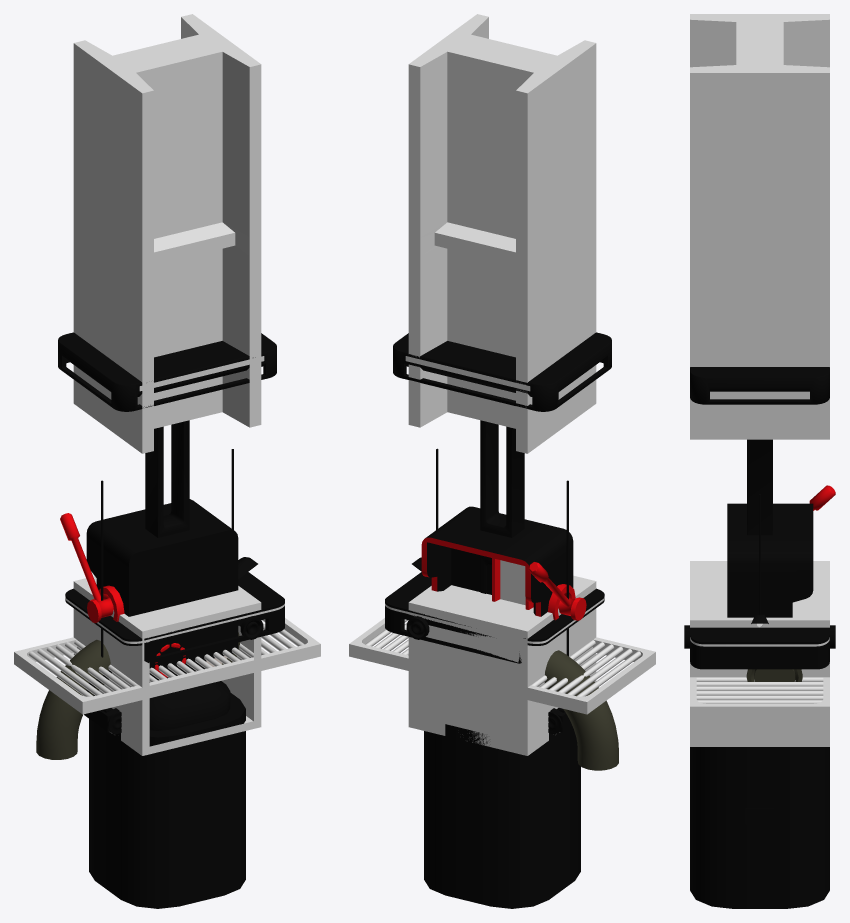
The model's file is Lift-M00A.fbx.
The picture shows the model from 3 angles, left to right: view 1: azimuth 30°, elevation 25°; view 2: azimuth 150°, elevation 25°; view 3: azimuth 270°, elevation 25°; orthographic projection.
Visible parts, largest first — view 1: Cube.001, Liftbase-M00B, ElectricBox-M00A, Lift-M00A, Cube, Floor-M00B, Platform-M00A, Barometer-M00A, CeilingLamp-M00C; view 2: Cube.001, Liftbase-M00B, Cube, Lift-M00A, ElectricBox-M00A, Floor-M00B, Platform-M00A, Barometer-M00A, CeilingLamp-M00C; view 3: Cube.001, Liftbase-M00B, Cube, ElectricBox-M00A, Lift-M00A, Platform-M00A, Floor-M00B, Barometer-M00A, CeilingLamp-M00C.
Boxes of the visible parts, x1=… form: Cube.001: x1=73, y1=14, x2=261, y2=453; Liftbase-M00B: x1=89, y1=660, x2=245, y2=908; ElectricBox-M00A: x1=60, y1=499, x2=238, y2=673; Lift-M00A: x1=58, y1=332, x2=276, y2=537; Cube: x1=73, y1=576, x2=261, y2=755; Floor-M00B: x1=14, y1=618, x2=320, y2=714; Platform-M00A: x1=65, y1=572, x2=284, y2=734; Barometer-M00A: x1=36, y1=632, x2=240, y2=759; CeilingLamp-M00C: x1=86, y1=449, x2=257, y2=692; Cube.001: x1=408, y1=14, x2=596, y2=453; Liftbase-M00B: x1=424, y1=724, x2=580, y2=908; Cube: x1=408, y1=575, x2=596, y2=755; Lift-M00A: x1=393, y1=332, x2=611, y2=593; ElectricBox-M00A: x1=421, y1=506, x2=586, y2=620; Floor-M00B: x1=349, y1=618, x2=655, y2=714; Platform-M00A: x1=385, y1=572, x2=604, y2=734; Barometer-M00A: x1=544, y1=650, x2=618, y2=770; CeilingLamp-M00C: x1=412, y1=448, x2=568, y2=656; Cube.001: x1=690, y1=14, x2=829, y2=439; Liftbase-M00B: x1=690, y1=747, x2=829, y2=908; Cube: x1=690, y1=561, x2=829, y2=746; ElectricBox-M00A: x1=727, y1=485, x2=835, y2=617; Lift-M00A: x1=690, y1=367, x2=829, y2=535; Platform-M00A: x1=684, y1=625, x2=835, y2=824; Floor-M00B: x1=690, y1=677, x2=829, y2=719; Barometer-M00A: x1=746, y1=669, x2=802, y2=681; CeilingLamp-M00C: x1=751, y1=494, x2=768, y2=627.
Bounding box in the file's own units: 404 × 1319 × 217.
